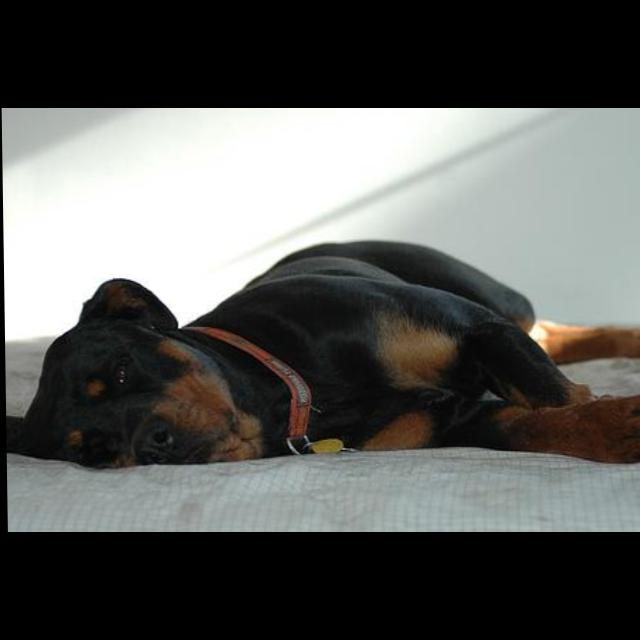rottweiler: (4, 239, 640, 469)
